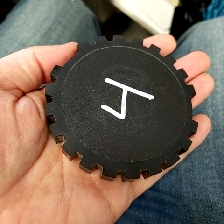gear: (43, 33, 199, 183)
missing: (50, 38, 90, 80), (185, 82, 199, 135)
